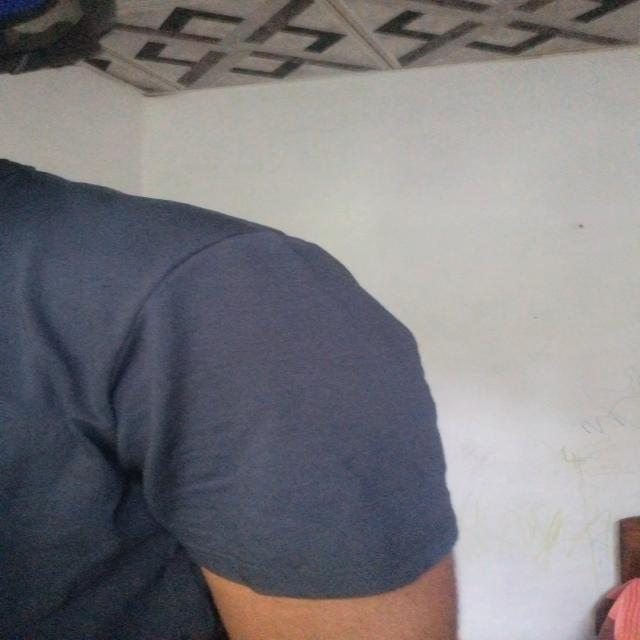Person: (0, 107, 512, 640)
